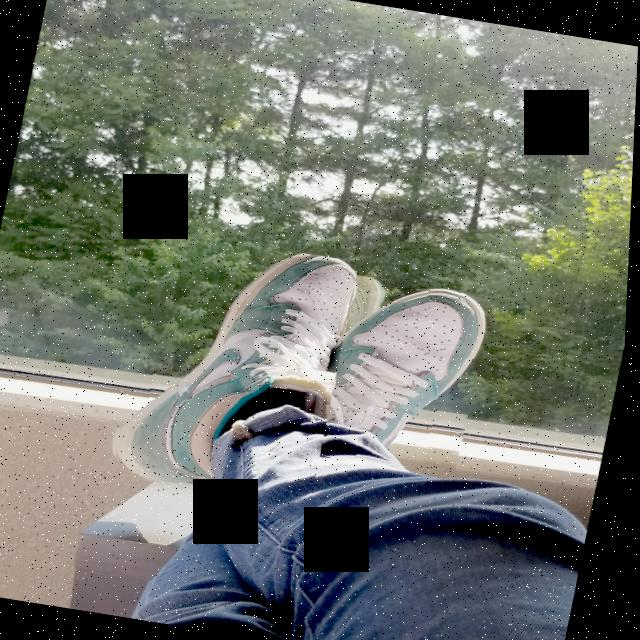shoe: (110, 230, 362, 508), (312, 273, 498, 479)
